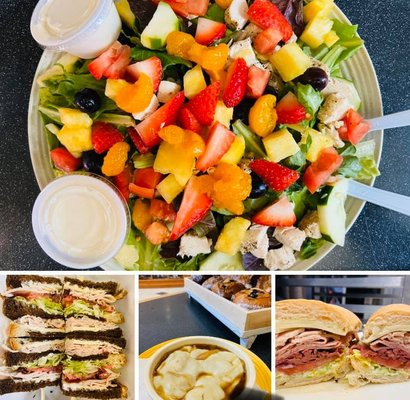pizza: (29, 1, 122, 60)
soup: (274, 298, 363, 388), (347, 303, 410, 386), (61, 328, 128, 393)
sushi: (11, 0, 398, 270), (31, 173, 131, 268), (138, 335, 273, 397)
